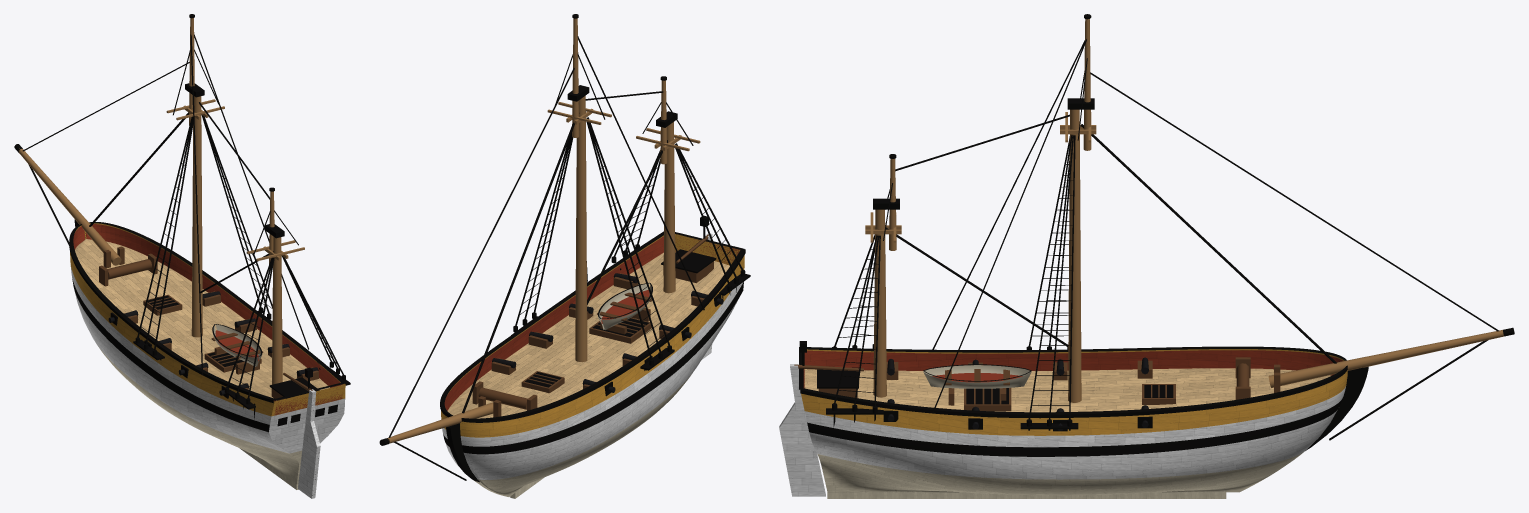
File: ketch.glb
3 renders of one model, left to right at view 1: azimuth 30°, elevation 25°; view 2: azimuth 150°, elevation 25°; view 3: azimuth 270°, elevation 25°, orthographic. The views are drawn at different scales.
Visible parts, largest first — view 1: hull; view 2: hull; view 3: hull.
Boxes of the visible parts, x1,y1,x2,y2 form: hull: (14, 14, 350, 498); hull: (379, 14, 750, 498); hull: (779, 14, 1514, 498).
Bounding box in the file's own units: 5.94 × 17.71 × 24.48.
Materials: 9 (5 with a texture image).
